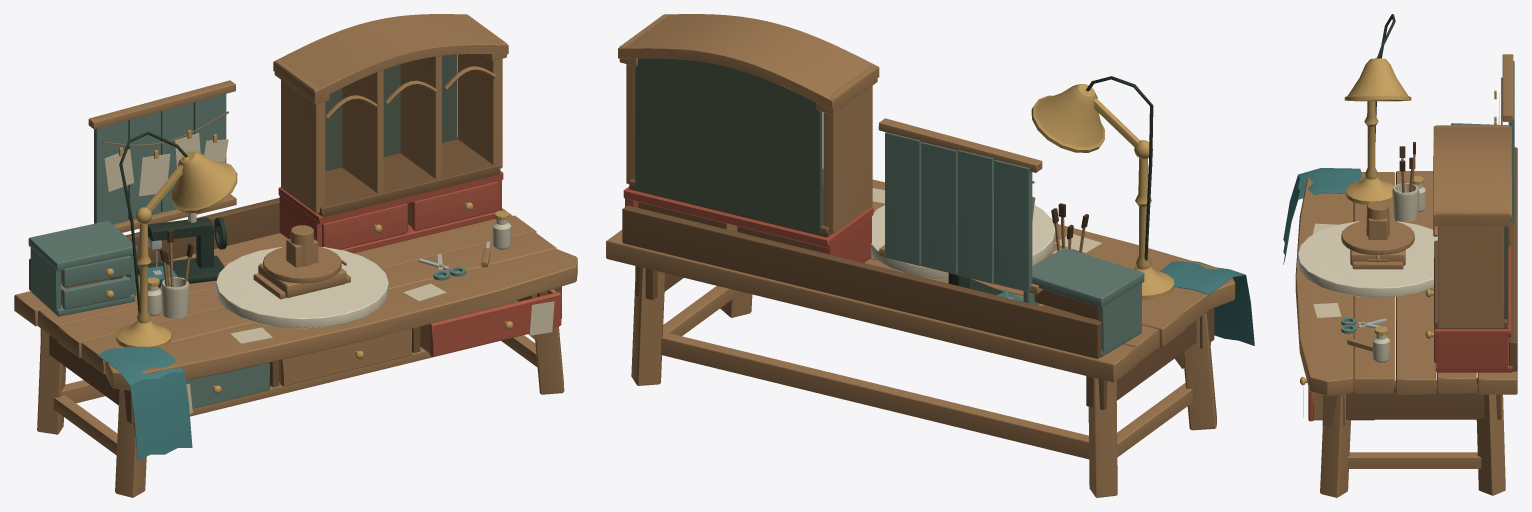
Rendered from Workbench_2_0.fbx.
3 views of the same model, side by side, from view 1: azimuth 30°, elevation 25°; view 2: azimuth 150°, elevation 25°; view 3: azimuth 270°, elevation 25° (orthographic). The views are drawn at different scales.
Visible parts, largest first — view 1: Desk_Top_Front_Swept_Plank, Display_Bowed_Crown, Crafting_Platform_Top, Fabric_Drape, Desk_Top_Plank_03, Display_Bottom, Desk_Top_Plank_02, Display_Post_00, Display_Post_02, Display_Post_03, Display_Post_01, Display_Inner_Back (+41 smaller); view 2: Display_Inner_Back, Desk_Low_Backboard, Display_Bowed_Crown, Desk_Top_Plank_05, Rear_Stretcher, Display_Post_00, Clue_Backing_Plank_00, Clue_Backing_Plank_01, Clue_Backing_Plank_03, Clue_Backing_Plank_02, Left_Storage_Cap, Lamp_Bell_Shade (+22 smaller); view 3: Display_Bowed_Crown, Desk_Top_Front_Swept_Plank, Display_Post_03, Crafting_Platform_Top, Desk_Top_Plank_03, Side_Apron_1.34, Desk_Top_Plank_02, Cabinet_Plinth_Side_1.405, Desk_Leg_Right_Rear, Desk_Leg_Right_Front, Side_Lower_Rail_1.34, Fabric_Drape (+24 smaller).
Boxes of the visible parts, x1,y1,x2,y2 form: Desk_Top_Front_Swept_Plank: (105, 248, 577, 390); Display_Bowed_Crown: (273, 14, 508, 101); Crafting_Platform_Top: (215, 247, 388, 328); Fabric_Drape: (97, 346, 192, 460); Desk_Top_Plank_03: (58, 215, 536, 358); Display_Bottom: (318, 138, 500, 217); Desk_Top_Plank_02: (81, 232, 556, 373); Display_Post_00: (281, 80, 325, 213); Display_Post_02: (400, 56, 441, 178); Display_Post_03: (458, 54, 502, 168); Display_Post_01: (342, 70, 383, 192); Display_Inner_Back: (325, 54, 457, 171); Display_Inner_Back: (635, 58, 822, 235); Desk_Low_Backboard: (622, 205, 1101, 358); Display_Bowed_Crown: (618, 14, 879, 110); Desk_Top_Plank_05: (606, 230, 1137, 382); Rear_Stretcher: (661, 331, 1089, 459); Display_Post_00: (823, 86, 872, 233); Clue_Backing_Plank_00: (994, 160, 1032, 291); Clue_Backing_Plank_01: (957, 150, 993, 283); Clue_Backing_Plank_03: (885, 132, 921, 265); Clue_Backing_Plank_02: (921, 142, 957, 273); Left_Storage_Cap: (1032, 247, 1144, 307); Lamp_Bell_Shade: (1031, 84, 1104, 152); Display_Bowed_Crown: (1433, 126, 1511, 222); Desk_Top_Front_Swept_Plank: (1295, 177, 1353, 396); Display_Post_03: (1438, 226, 1504, 328); Crafting_Platform_Top: (1297, 221, 1437, 297); Desk_Top_Plank_03: (1396, 171, 1435, 394); Side_Apron_1.34: (1346, 380, 1501, 419); Desk_Top_Plank_02: (1354, 172, 1395, 393); Cabinet_Plinth_Side_1.405: (1437, 335, 1507, 369); Desk_Leg_Right_Rear: (1476, 377, 1505, 495); Desk_Leg_Right_Front: (1320, 394, 1350, 497); Side_Lower_Rail_1.34: (1347, 452, 1481, 468); Fabric_Drape: (1283, 168, 1361, 264).
Size of the model in its own units: 3.09 by 2.06 by 1.44.
